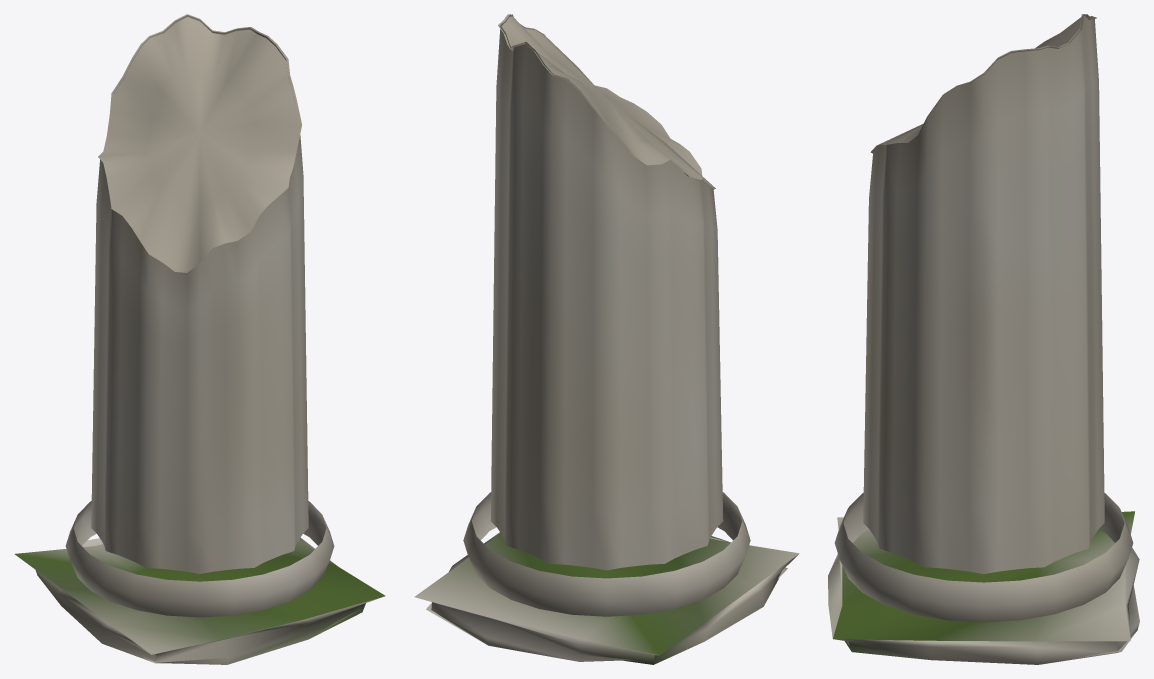
The model's file is column-broken-a.glb.
3 views of the same model, side by side, from view 1: azimuth 30°, elevation 25°; view 2: azimuth 150°, elevation 25°; view 3: azimuth 270°, elevation 25° (orthographic). The views are drawn at different scales.
Parts seen in each view (by area): view 1: column-broken-a; view 2: column-broken-a; view 3: column-broken-a.
Part boxes in pixels (x1=…): column-broken-a: x1=14, y1=14, x2=385, y2=664; column-broken-a: x1=414, y1=14, x2=799, y2=664; column-broken-a: x1=828, y1=14, x2=1139, y2=664.
Size of the model in its own units: 0.2857 by 0.6146 by 0.2841.
